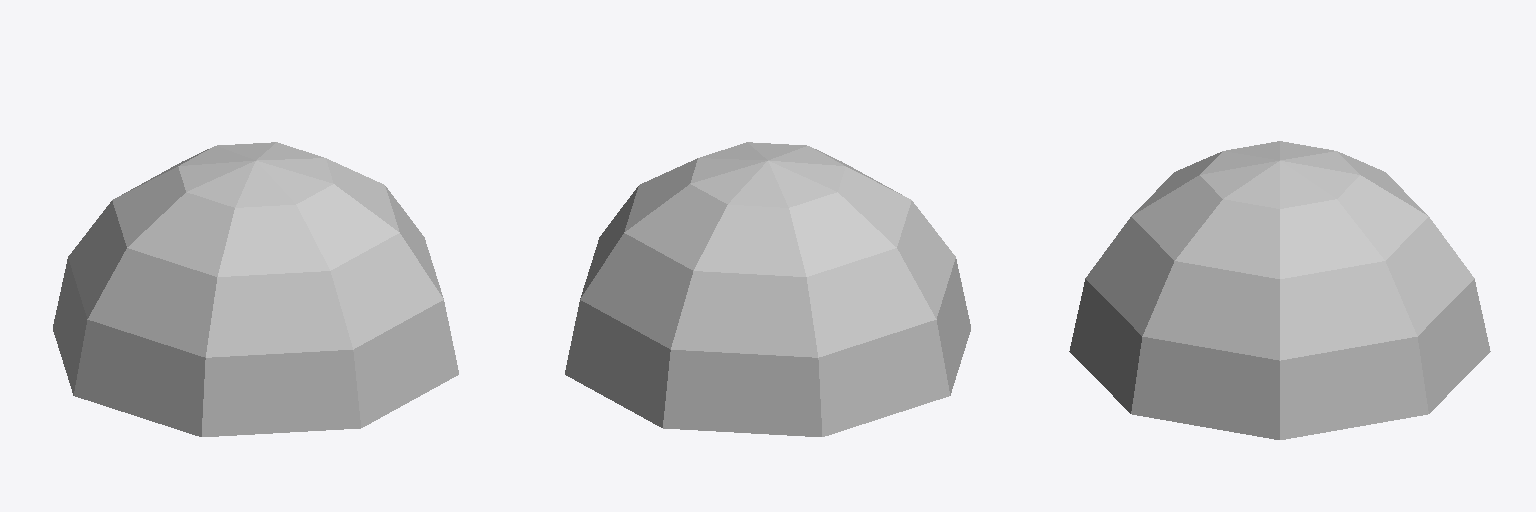
The model's file is tanah bulet.obj.
3 views of the same model, side by side, from view 1: azimuth 30°, elevation 25°; view 2: azimuth 150°, elevation 25°; view 3: azimuth 270°, elevation 25° (orthographic).
Parts seen in each view (by area): view 1: pSphere24 Rak_Taneman_2; view 2: pSphere24 Rak_Taneman_2; view 3: pSphere24 Rak_Taneman_2.
Boxes of the visible parts, <box> form: pSphere24 Rak_Taneman_2: <box>53,142,458,436</box>; pSphere24 Rak_Taneman_2: <box>565,142,970,436</box>; pSphere24 Rak_Taneman_2: <box>1069,141,1490,439</box>.
Size of the model in its own units: 0.4338 by 0.2169 by 0.4338.